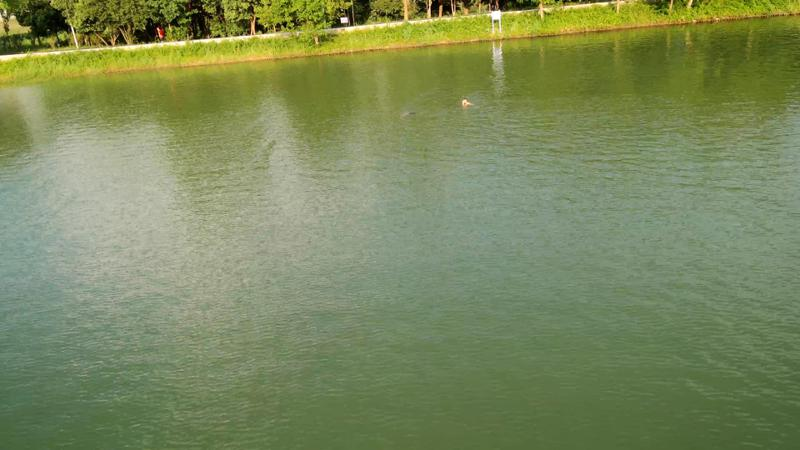swimmers: (459, 93, 476, 109)
